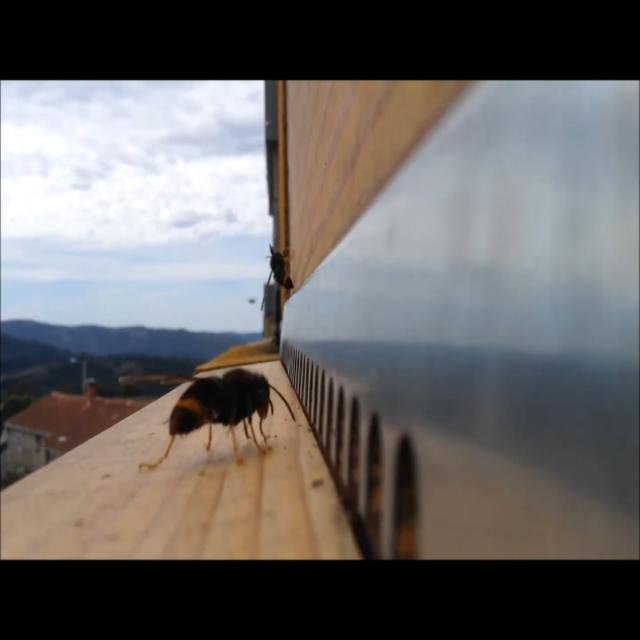Hornets: (115, 364, 293, 472), (261, 241, 295, 308)
